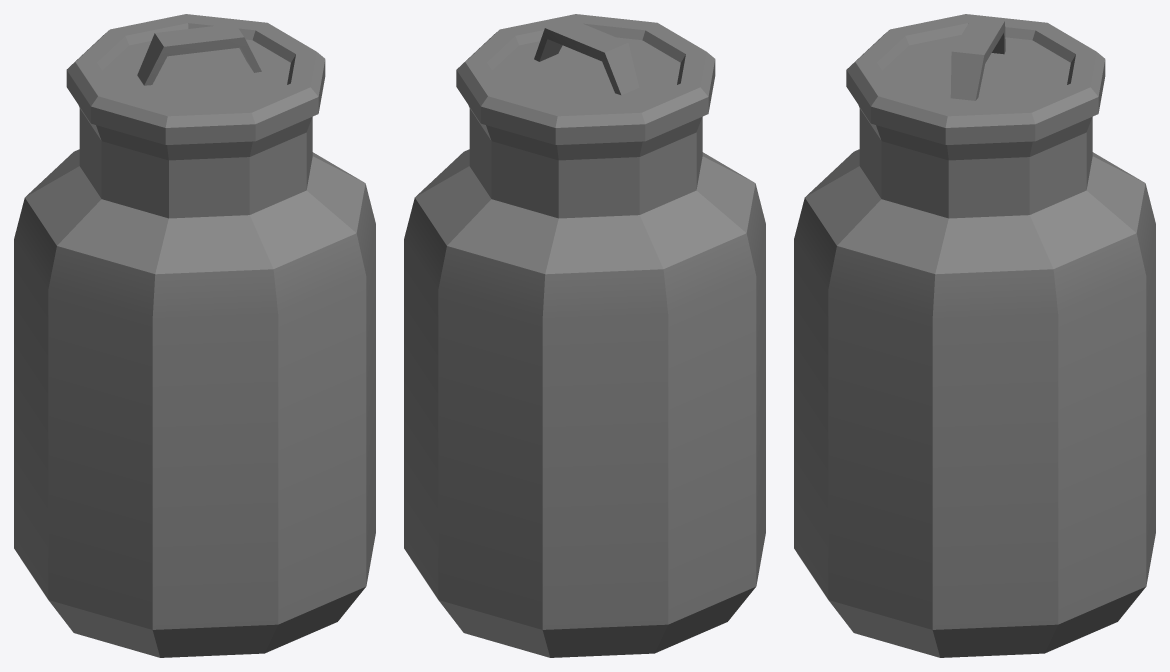
File: milktank_a003.glb
3 renders of one model, left to right at view 1: azimuth 30°, elevation 25°; view 2: azimuth 150°, elevation 25°; view 3: azimuth 270°, elevation 25°, orthographic.
Visible parts, largest first — view 1: milktank_a003; view 2: milktank_a003; view 3: milktank_a003.
Boxes of the visible parts, bbox=[...] form: milktank_a003: bbox=[14, 14, 375, 657]; milktank_a003: bbox=[404, 14, 765, 657]; milktank_a003: bbox=[794, 14, 1155, 657].
Size of the model in its own units: 0.435 by 0.7408 by 0.434.
1 material, 1 textured.
